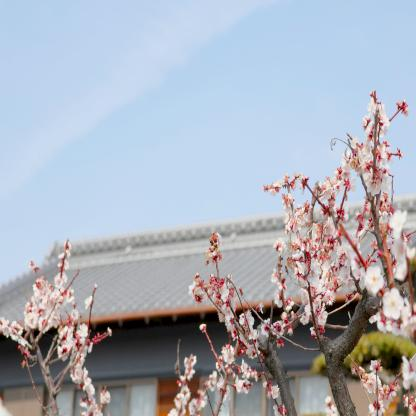Ume: (165, 82, 415, 416), (0, 233, 125, 416)
